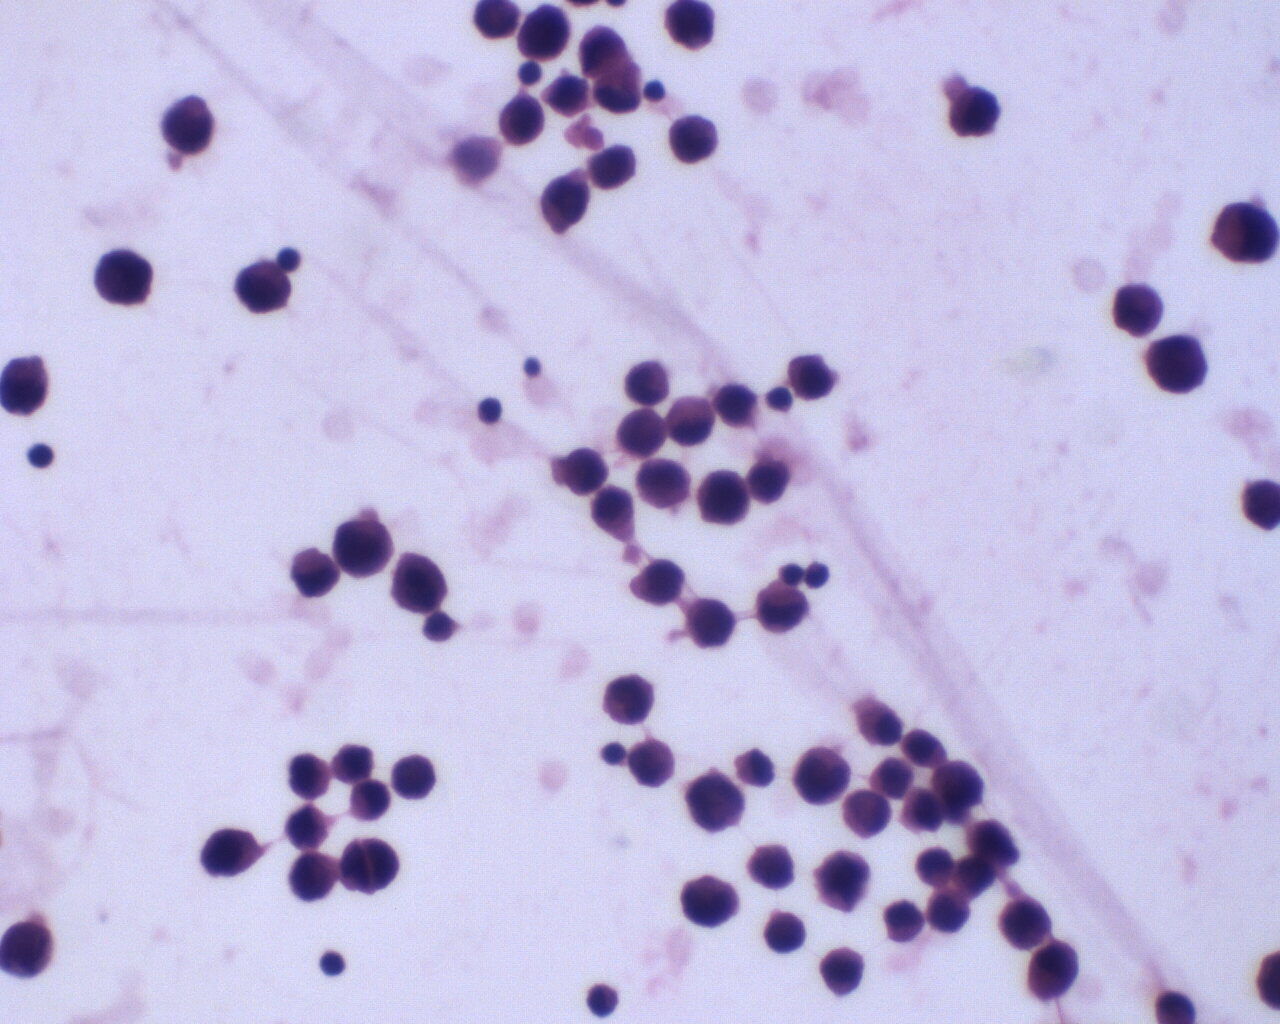ab: (1208, 197, 1279, 267), (1142, 334, 1212, 398), (815, 846, 874, 920), (158, 91, 218, 161), (391, 551, 453, 615), (334, 517, 395, 584), (791, 747, 852, 808), (232, 257, 294, 317), (197, 827, 263, 882), (695, 465, 752, 528), (538, 172, 592, 238), (679, 872, 739, 932), (997, 893, 1056, 952), (634, 458, 694, 513), (755, 582, 813, 638), (682, 592, 738, 651), (1109, 278, 1163, 338), (838, 789, 894, 845), (667, 113, 722, 168), (494, 93, 546, 152), (818, 942, 868, 1002), (288, 850, 341, 905), (787, 352, 839, 404), (922, 886, 973, 935), (344, 779, 392, 822)
lymph: (580, 981, 623, 1022), (316, 946, 348, 982), (26, 436, 56, 474), (600, 737, 629, 769)
